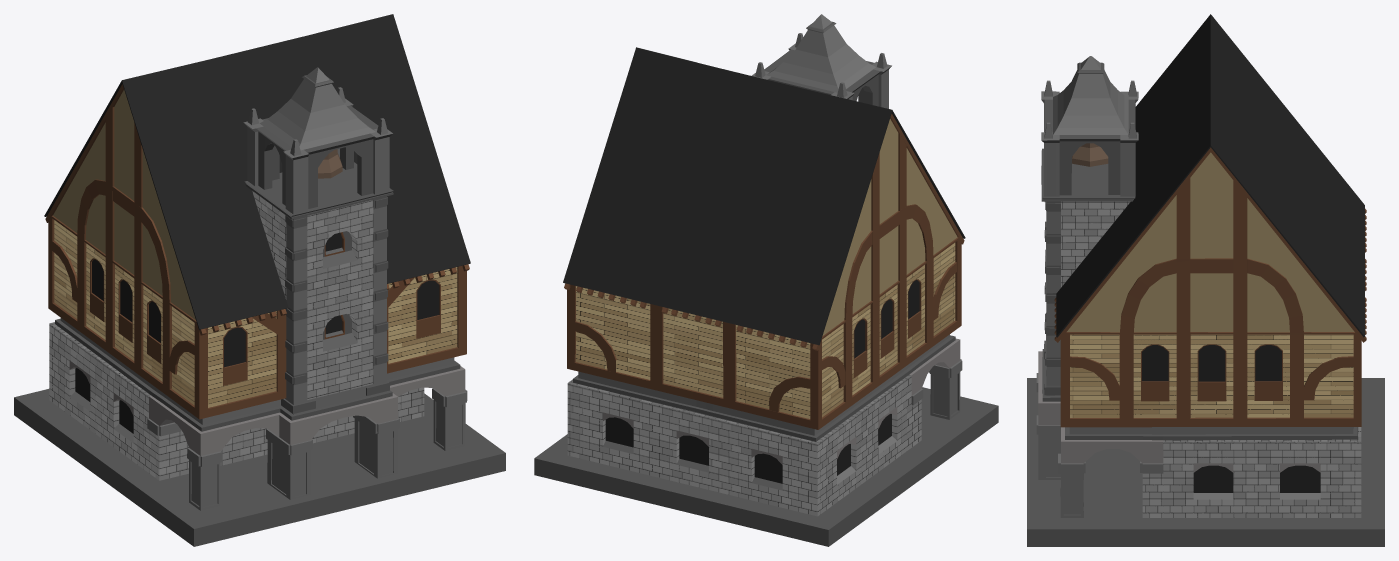
File: FeudalTC.glb
3 views of the same model, side by side, from view 1: azimuth 30°, elevation 25°; view 2: azimuth 150°, elevation 25°; view 3: azimuth 270°, elevation 25° (orthographic). The views are drawn at different scales.
Visible parts, largest first — view 1: feudalTC; view 2: feudalTC; view 3: feudalTC.
Part boxes in pixels (x1,y1,x2,y2): feudalTC: [14, 14, 505, 546]; feudalTC: [534, 14, 998, 546]; feudalTC: [1027, 14, 1384, 546].
Bounding box in the file's own units: 4 × 5.13 × 4.
9 materials, 2 textured.
